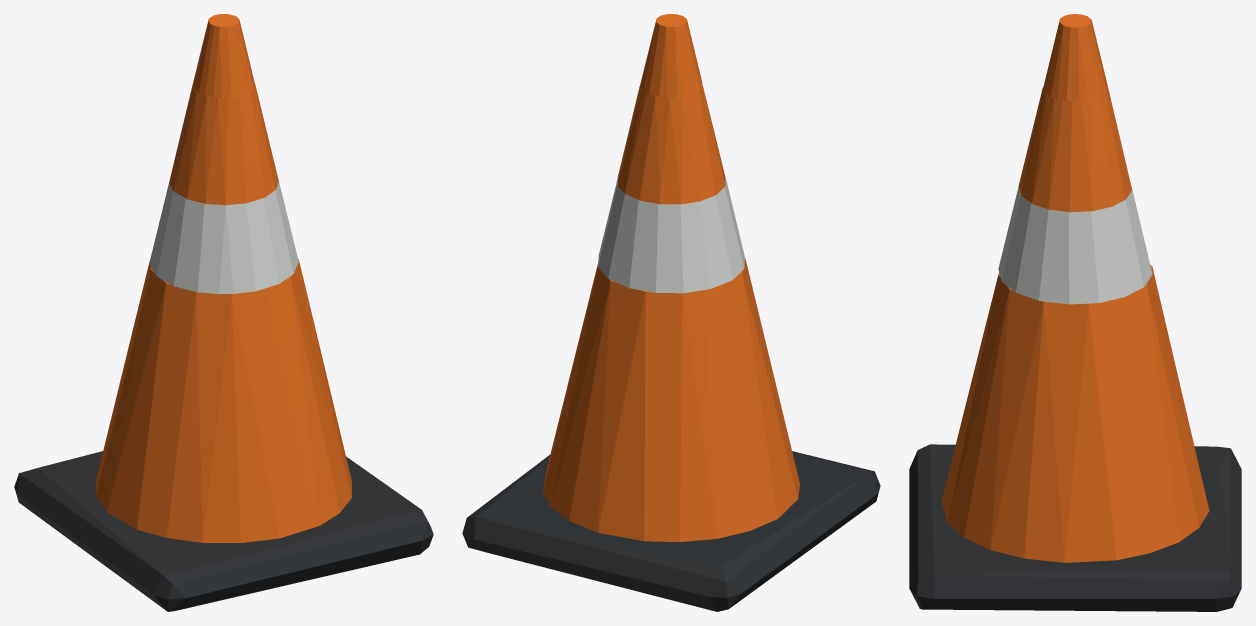
Rendered from DS_Hazard_Cone_01_LOD1.glb.
3 renders of one model, left to right at view 1: azimuth 30°, elevation 25°; view 2: azimuth 150°, elevation 25°; view 3: azimuth 270°, elevation 25°, orthographic. The views are drawn at different scales.
Visible parts, largest first — view 1: Tapered_Cone, Weighted_Base, Tapered_Cone.001, Tapered_Cone.002, Tapered_Cone.003; view 2: Tapered_Cone, Weighted_Base, Tapered_Cone.001, Tapered_Cone.002, Tapered_Cone.003; view 3: Tapered_Cone, Weighted_Base, Tapered_Cone.001, Tapered_Cone.002, Tapered_Cone.003.
Part boxes in pixels (x1=…): Tapered_Cone: x1=96, y1=259, x2=351, y2=542; Weighted_Base: x1=14, y1=451, x2=433, y2=611; Tapered_Cone.001: x1=149, y1=182, x2=298, y2=294; Tapered_Cone.002: x1=169, y1=83, x2=278, y2=205; Tapered_Cone.003: x1=192, y1=14, x2=255, y2=98; Tapered_Cone: x1=543, y1=258, x2=799, y2=541; Weighted_Base: x1=462, y1=451, x2=880, y2=611; Tapered_Cone.001: x1=598, y1=178, x2=744, y2=293; Tapered_Cone.002: x1=617, y1=84, x2=725, y2=204; Tapered_Cone.003: x1=640, y1=14, x2=702, y2=97; Tapered_Cone: x1=941, y1=265, x2=1209, y2=562; Weighted_Base: x1=909, y1=444, x2=1241, y2=611; Tapered_Cone.001: x1=998, y1=186, x2=1152, y2=304; Tapered_Cone.002: x1=1018, y1=86, x2=1132, y2=212; Tapered_Cone.003: x1=1043, y1=14, x2=1107, y2=101.
Bounding box in the file's own units: 0.36 × 0.634 × 0.36.
